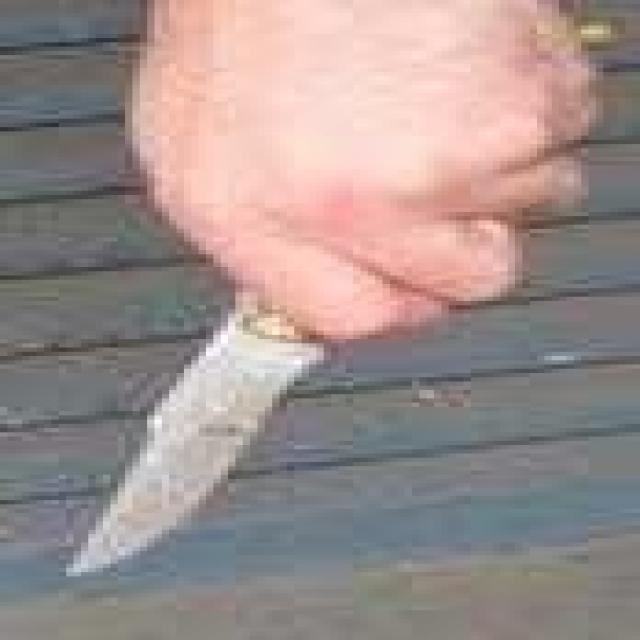knife: (61, 100, 451, 593)
